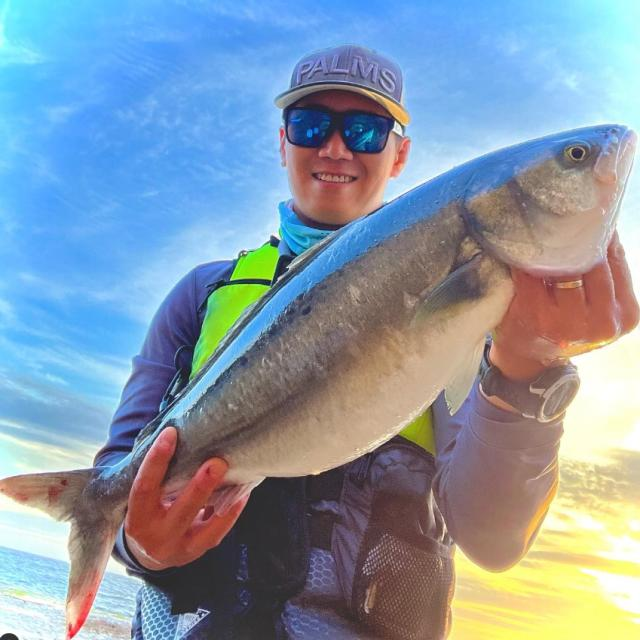Australian Salmon: (2, 102, 639, 640)
